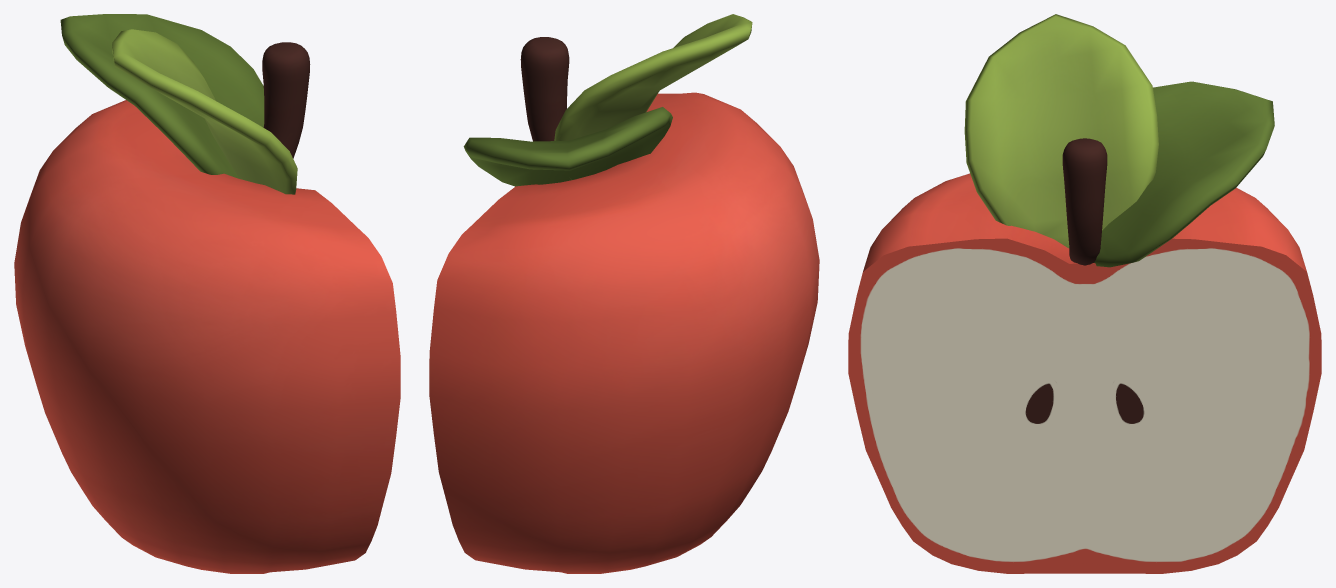
Rendered from apple7262.fbx.
The picture shows the model from 3 angles, left to right: view 1: azimuth 30°, elevation 25°; view 2: azimuth 150°, elevation 25°; view 3: azimuth 270°, elevation 25°; orthographic projection. The views are drawn at different scales.
Visible parts, largest first — view 1: apple; view 2: apple; view 3: apple.
Boxes of the visible parts, x1=… form: apple: x1=14, y1=14, x2=400, y2=573; apple: x1=429, y1=14, x2=819, y2=573; apple: x1=848, y1=14, x2=1321, y2=573.
Size of the model in its own units: 1.29 by 2.44 by 2.15.
Materials: 2 (2 with a texture image).
